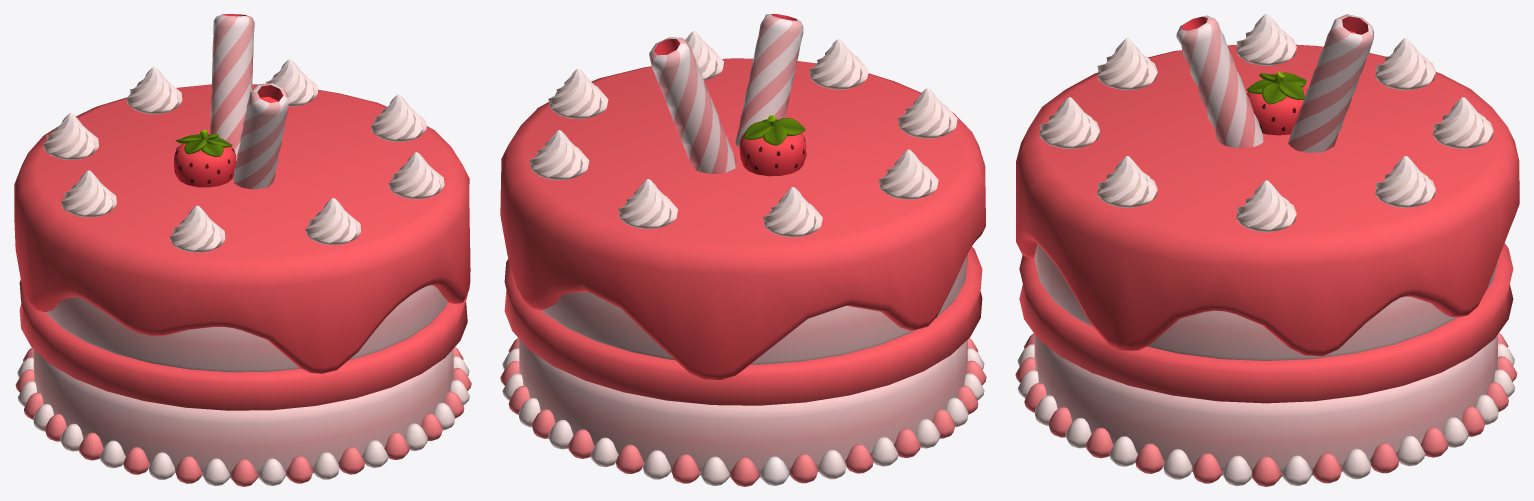
File: Cake_Strawberry_V3_00.fbx
The picture shows the model from 3 angles, left to right: view 1: azimuth 30°, elevation 25°; view 2: azimuth 150°, elevation 25°; view 3: azimuth 270°, elevation 25°; orthographic projection. The views are drawn at different scales.
Visible parts, largest first — view 1: Cake_Strawberry_V3_00; view 2: Cake_Strawberry_V3_00; view 3: Cake_Strawberry_V3_00.
Part boxes in pixels (left/top/right/bottom): Cake_Strawberry_V3_00: left=14, top=14, right=471, bottom=486; Cake_Strawberry_V3_00: left=500, top=14, right=986, bottom=486; Cake_Strawberry_V3_00: left=1015, top=14, right=1519, bottom=486.
Bounding box in the file's own units: 65.77 × 55.06 × 65.84.
